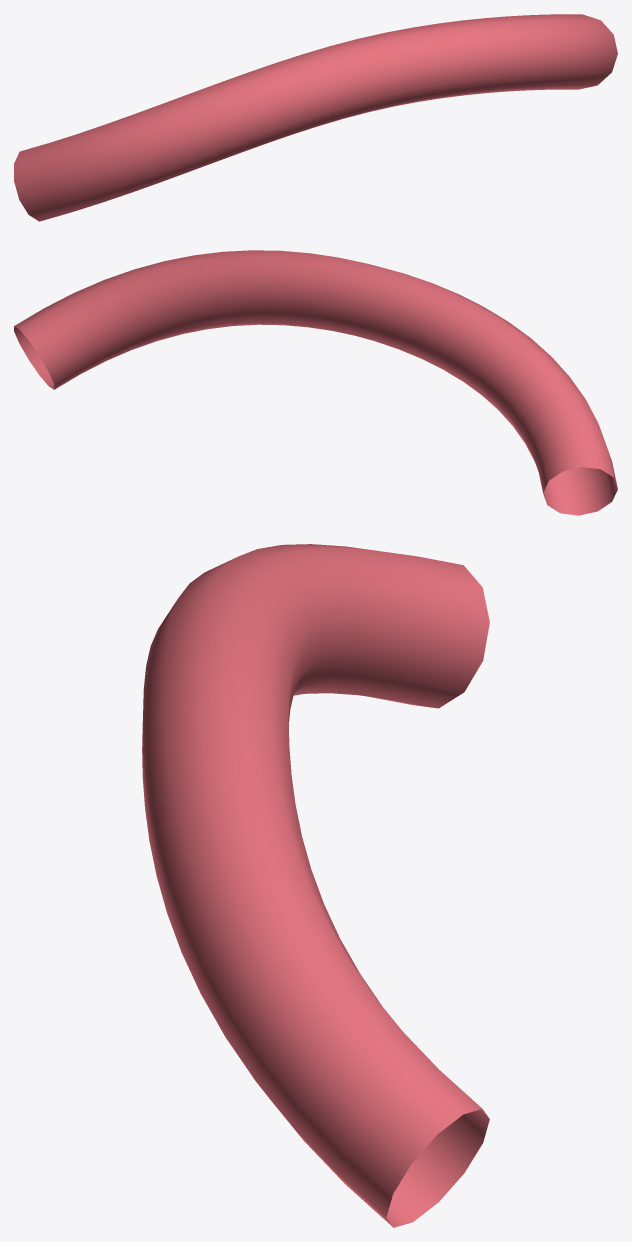
3 views of the same model, one above another, from view 1: azimuth 30°, elevation 25°; view 2: azimuth 150°, elevation 25°; view 3: azimuth 270°, elevation 25° (orthographic). The views are drawn at different scales.
Visible parts, largest first — view 1: ZA_2d58e22782ec24c7; view 2: ZA_2d58e22782ec24c7; view 3: ZA_2d58e22782ec24c7.
Part boxes in pixels (box(x1,y1,x2,y2)): ZA_2d58e22782ec24c7: box(14, 14, 617, 221); ZA_2d58e22782ec24c7: box(14, 250, 617, 515); ZA_2d58e22782ec24c7: box(142, 544, 489, 1227).
Bounding box in the file's own units: 0.00919 × 0.00217 × 0.00231.
